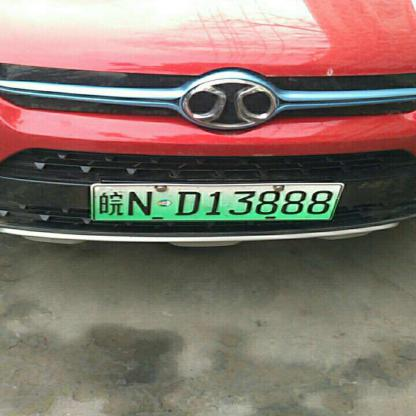lp: (90, 182, 343, 219)
